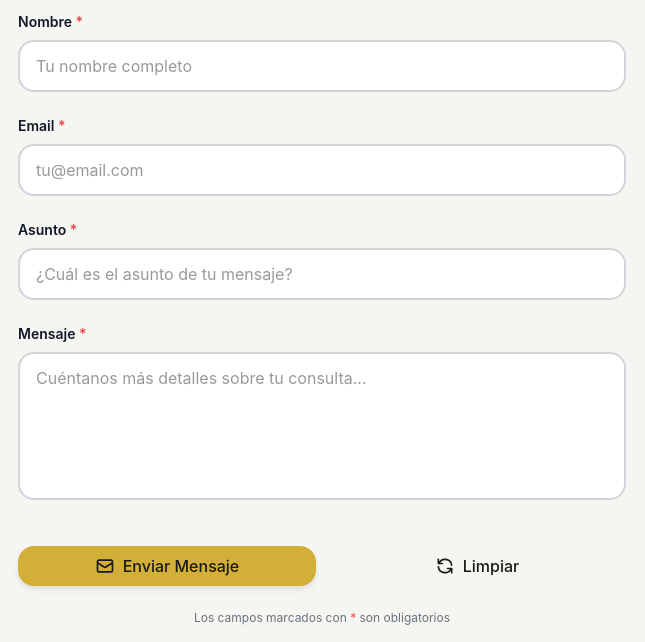
Test: ContactForm Component › shows success confirmation message after successful submission
Type "John Doe" into the field labelled "Nombre *". click: [322, 66]
box: [18,40,626,92]
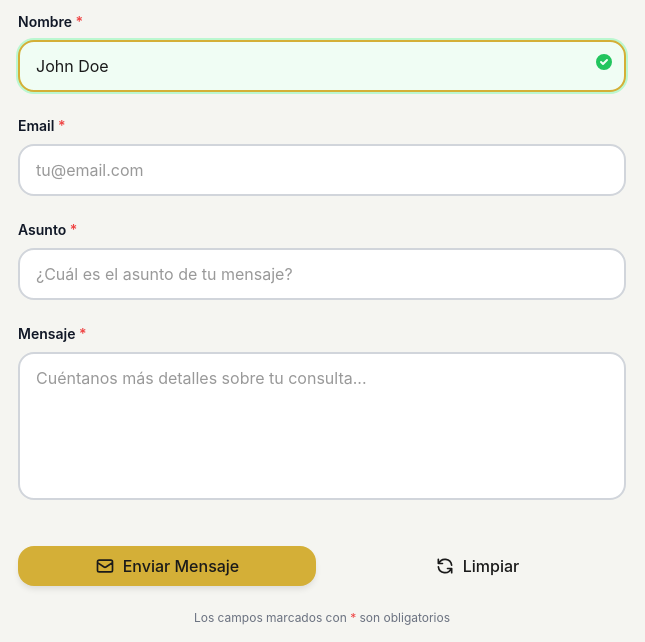
Type "john@example.com" into the field labelled "Email *". click: [322, 170]
box: [18,144,626,196]
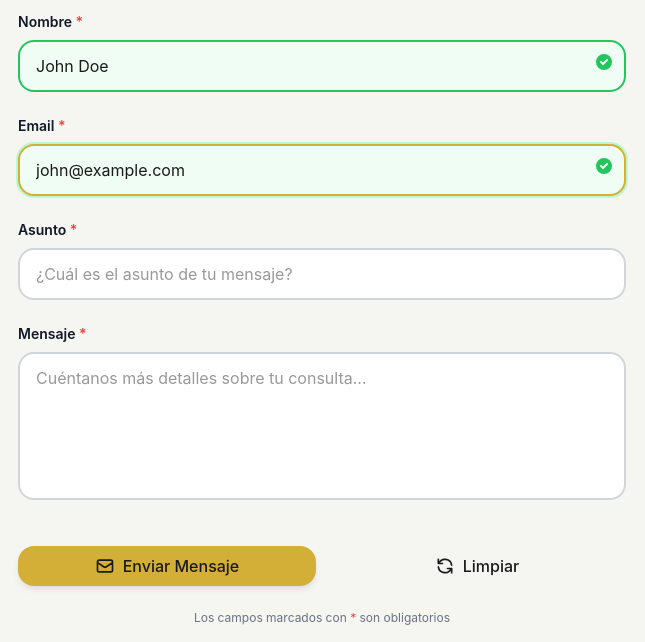
Type "Test Subject" into the field labelled "Asunto *". click: [322, 274]
box: [18,248,626,300]
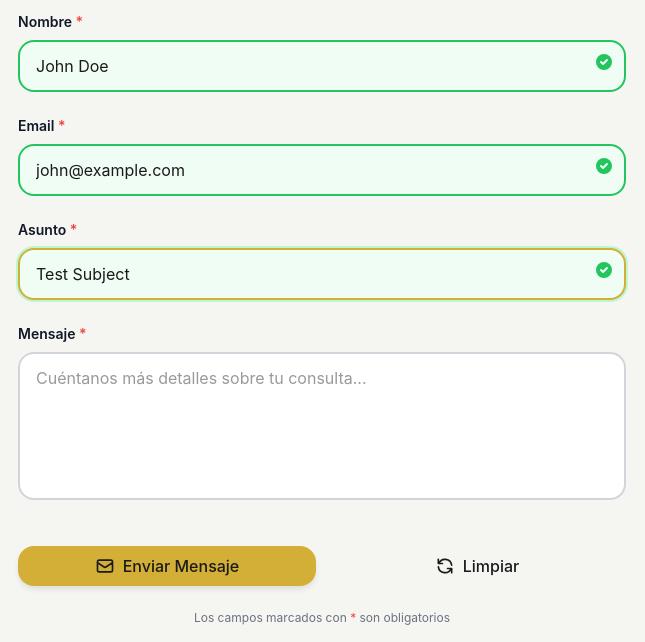
Type "This is a test message" into the text box labelled "Mensaje *". click: [322, 426]
box: [18,352,626,500]
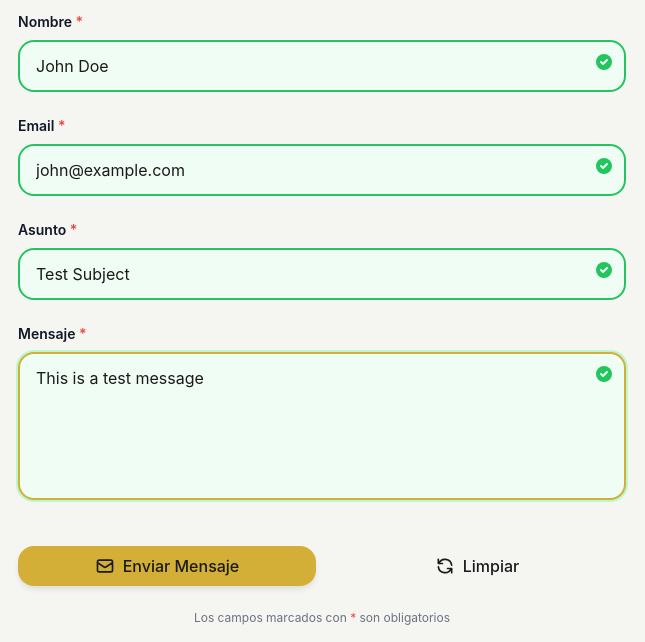
Click the button "Enviar Mensaje". click: [167, 566]
box: [18,546,316,586]
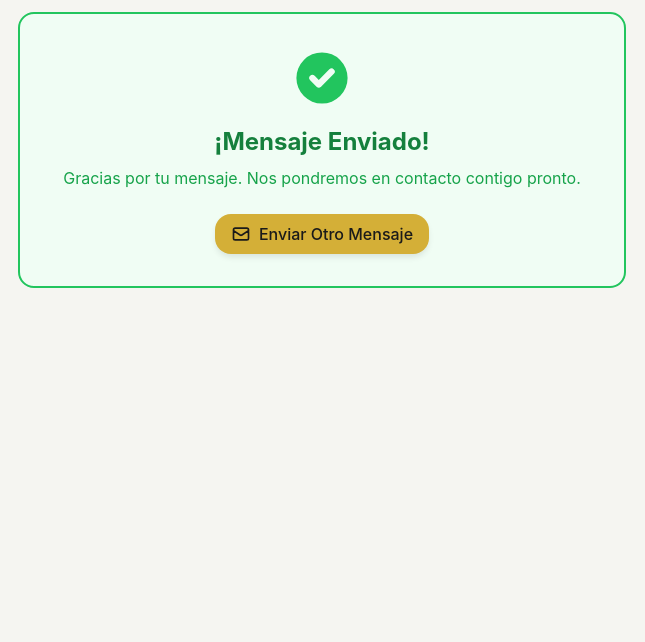
Result: the heading "¡Mensaje Enviado!" is shown at [214,127,430,156]
Result: the text "Gracias por tu mensaje" is shown at [63,168,581,188]
